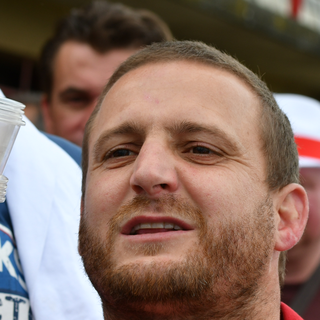eye: (172, 127, 235, 169), (95, 138, 142, 167)
